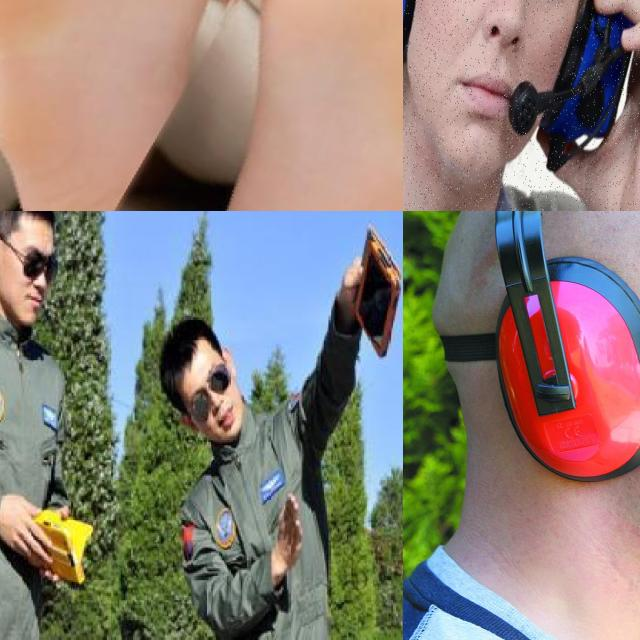Barefoots: (0, 0, 318, 211), (87, 0, 403, 211)
Ear-protection: (478, 253, 640, 484)
face_nomask: (408, 0, 579, 187), (182, 347, 252, 438), (0, 214, 59, 318)
glasses: (182, 362, 233, 428), (15, 246, 62, 287)
hand_noglove: (559, 0, 640, 211), (0, 491, 51, 566), (270, 493, 304, 580), (339, 256, 367, 324)
head_nohelmet: (147, 308, 211, 379), (1, 211, 70, 238)
person: (140, 256, 382, 640), (0, 211, 79, 640)
